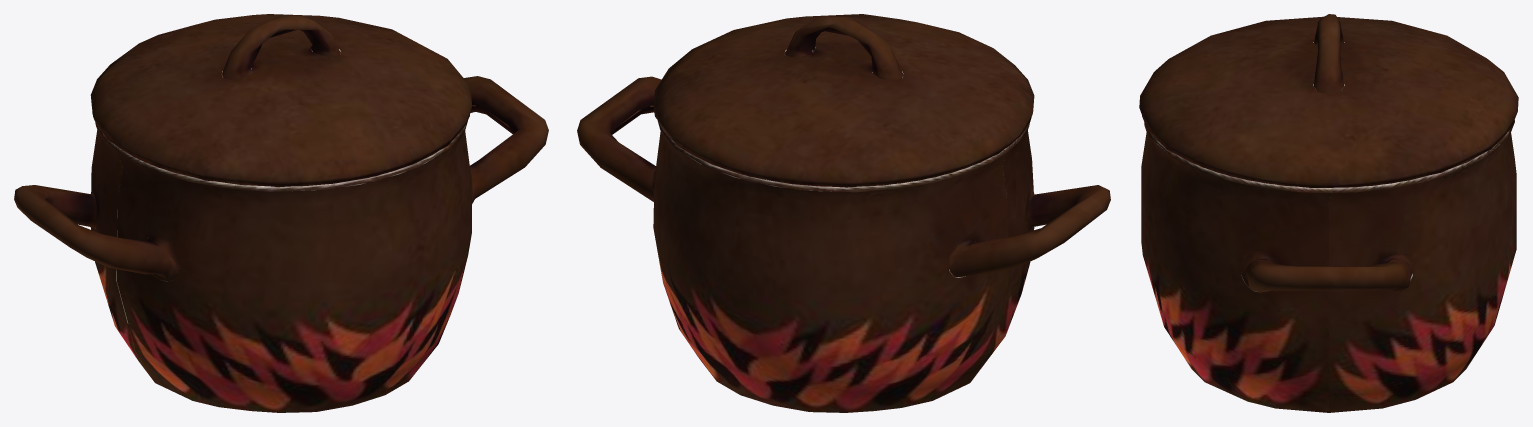
Rendered from pot_enamel_01.glb.
3 renders of one model, left to right at view 1: azimuth 30°, elevation 25°; view 2: azimuth 150°, elevation 25°; view 3: azimuth 270°, elevation 25°, orthographic.
Visible parts, largest first — view 1: pot_enamel_01_lid; view 2: pot_enamel_01_lid; view 3: pot_enamel_01_lid.
Part boxes in pixels (bbox=[...]): pot_enamel_01_lid: bbox=[14, 14, 548, 412]; pot_enamel_01_lid: bbox=[577, 14, 1110, 412]; pot_enamel_01_lid: bbox=[1139, 14, 1518, 412].
Bounding box in the file's own units: 0.2631 × 0.1785 × 0.181.
Materials: 1 (1 with a texture image).
